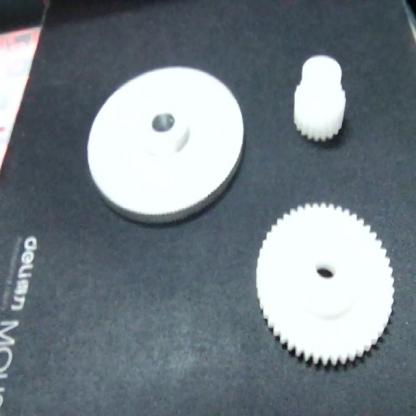FOD: (86, 60, 250, 232), (258, 208, 394, 367), (287, 52, 347, 153)
